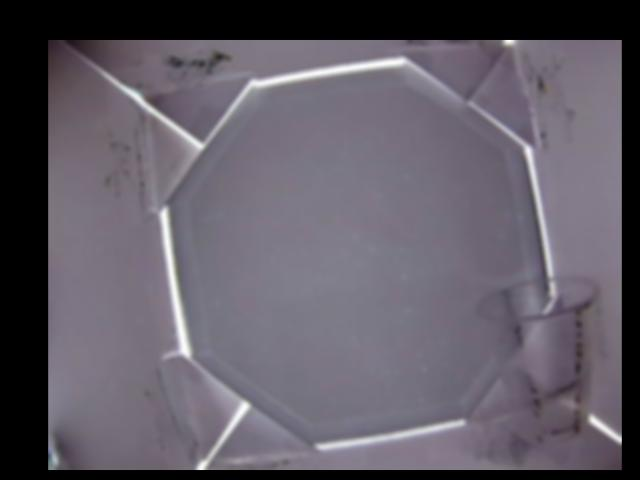Cup: (473, 277, 600, 437)
